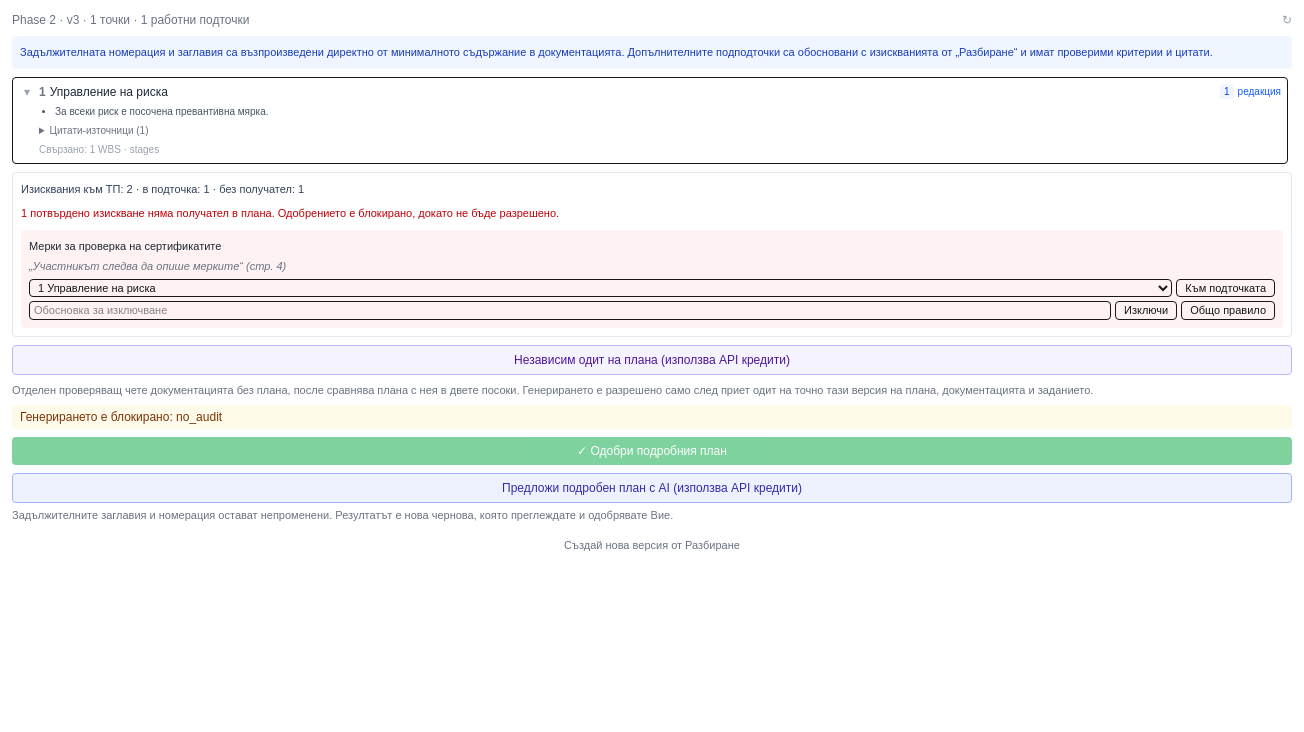
Scenario: OutlinePanel Phase 2 › blocks approval and resolves a requirement without a receiver
The width and height of the screenshot is (1304, 732).
Expected: the element with test id "requirement-unresolved-list" shows "Мерки за проверка на сертификатите", [29,240,221,252]
Expected: the button with test id "content-plan-approve-button" is disabled, [12,437,1292,465]
What coordinates should you click on to do the following:
click the button "Към подточката"
I would click on:
 (1226, 288)
Its box is [1176,278,1275,297].
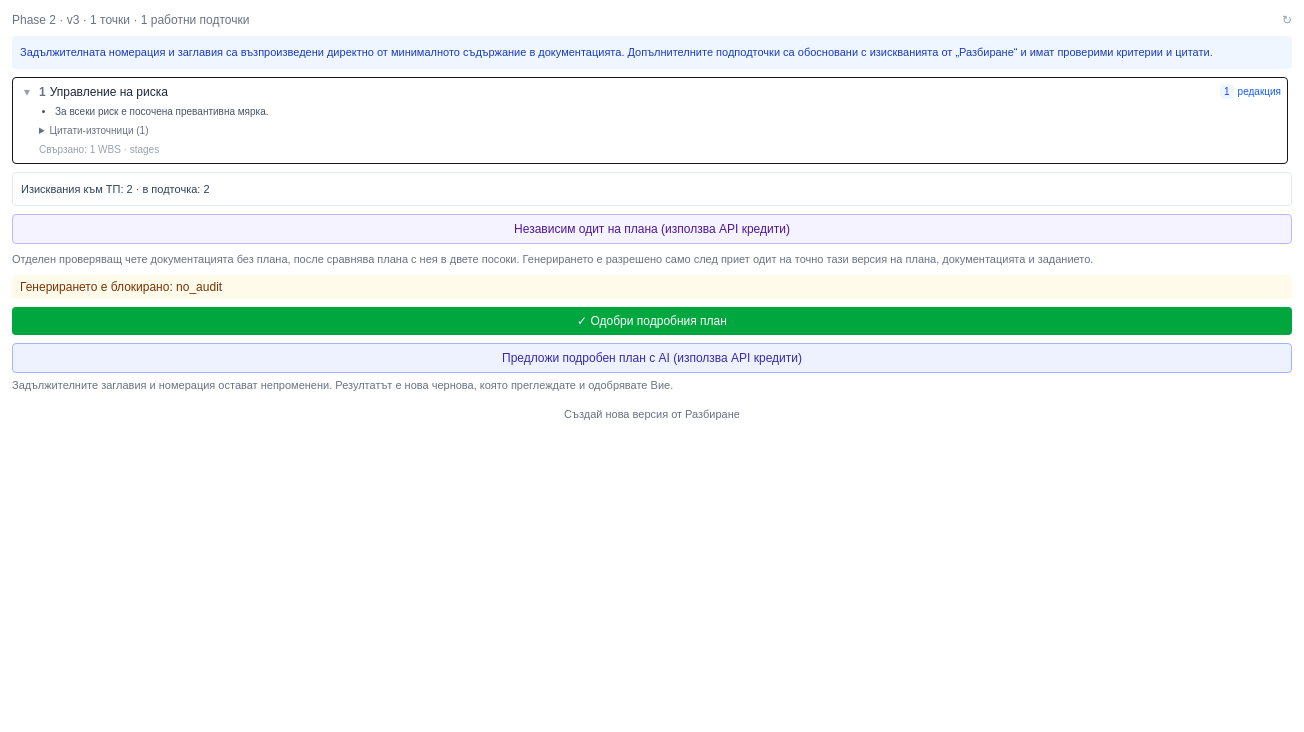
Expected: the button with test id "content-plan-approve-button" is enabled, [12,307,1292,335]
